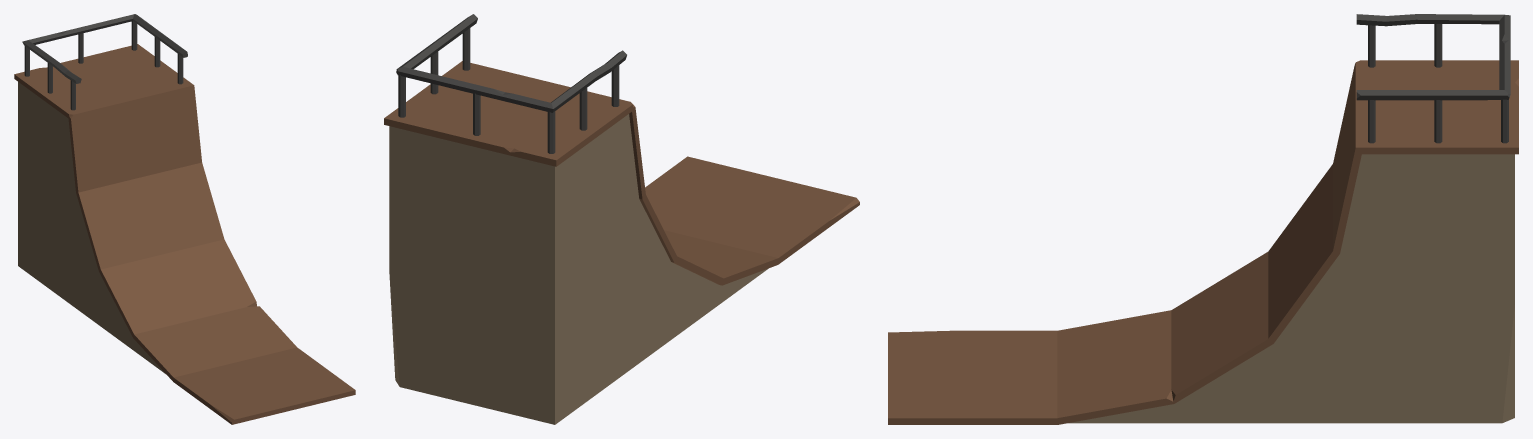
The model's file is SM_Props_City_PlayGround_Skatepark_Wood_VertRamp.fbx.
3 renders of one model, left to right at view 1: azimuth 30°, elevation 25°; view 2: azimuth 150°, elevation 25°; view 3: azimuth 270°, elevation 25°, orthographic. The views are drawn at different scales.
Visible parts, largest first — view 1: SM_Props_City_PlayGround_Skatepark_Wood_VertRamp; view 2: SM_Props_City_PlayGround_Skatepark_Wood_VertRamp; view 3: SM_Props_City_PlayGround_Skatepark_Wood_VertRamp.
Boxes of the visible parts, box(x1,y1,x2,y2) form: SM_Props_City_PlayGround_Skatepark_Wood_VertRamp: box(14, 14, 355, 424); SM_Props_City_PlayGround_Skatepark_Wood_VertRamp: box(384, 14, 859, 424); SM_Props_City_PlayGround_Skatepark_Wood_VertRamp: box(888, 14, 1518, 424).
Bounding box in the file's own units: 208 × 365 × 634.
